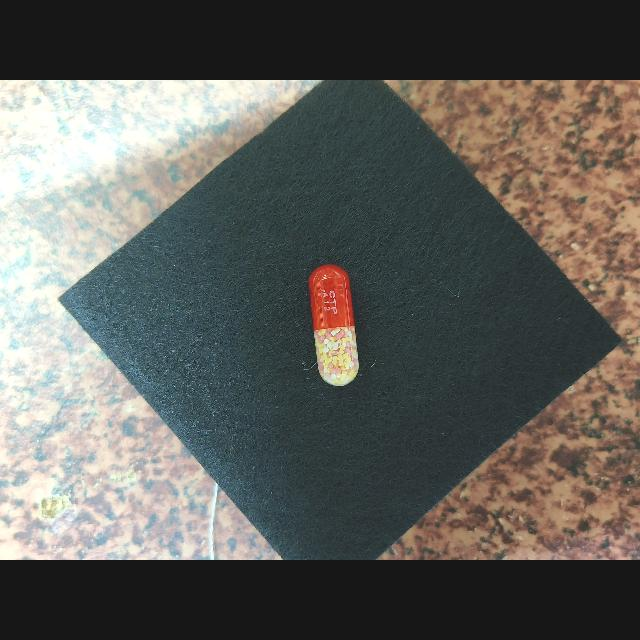Intact Capsule: (309, 264, 359, 386)
